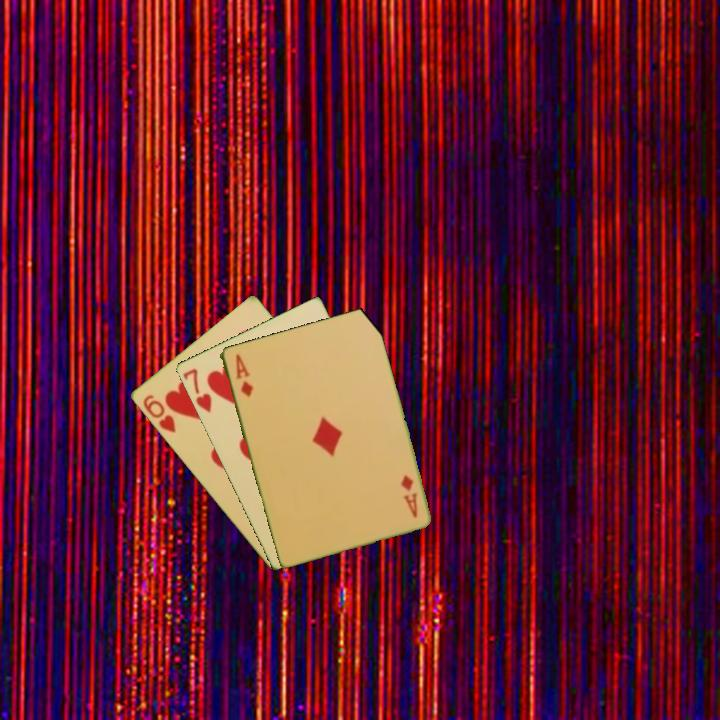6h: (139, 391, 178, 436)
7h: (179, 365, 214, 416)
Ad: (231, 350, 256, 400), (397, 471, 420, 521)
